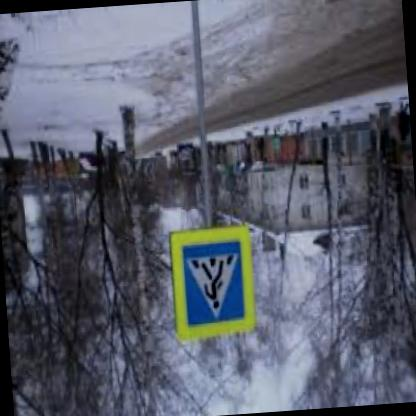crosswalk: (184, 242, 249, 324)
